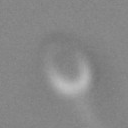normal: (75, 94, 104, 128)
